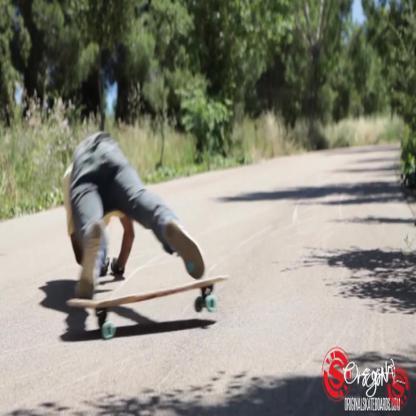Fall_Down: (62, 130, 208, 304)
